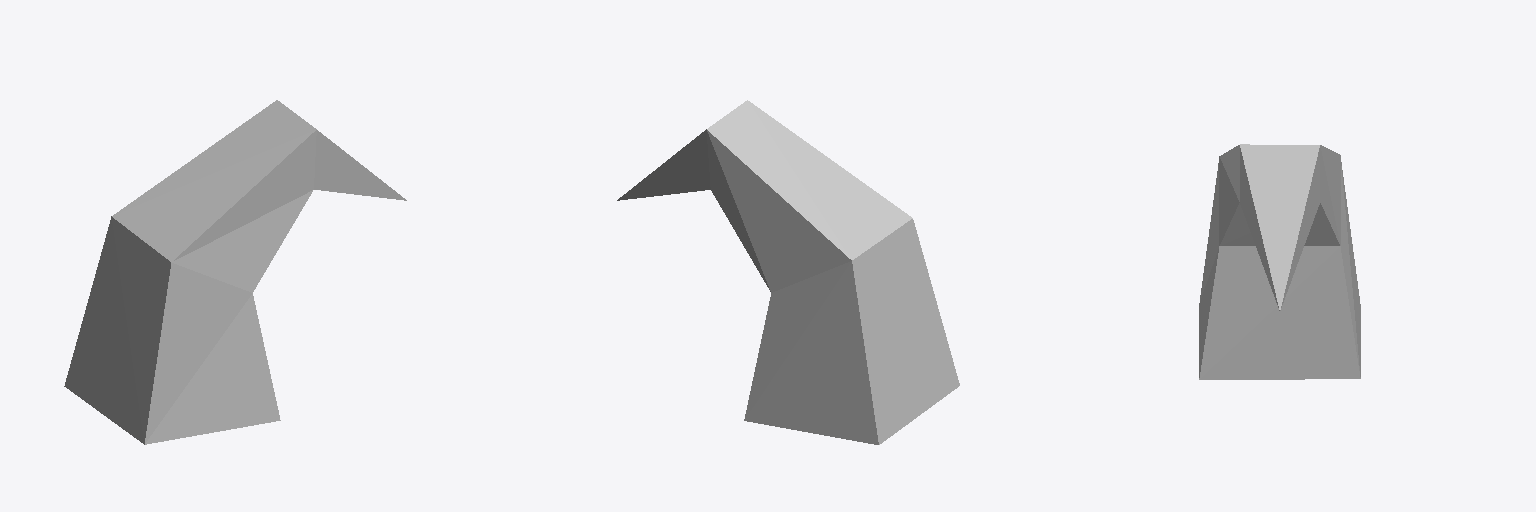
The model's file is skeletal_000030.obj.
3 renders of one model, left to right at view 1: azimuth 30°, elevation 25°; view 2: azimuth 150°, elevation 25°; view 3: azimuth 270°, elevation 25°, orthographic.
Parts seen in each view (by area): view 1: Cube; view 2: Cube; view 3: Cube.
Boxes of the visible parts, box(x1,y1,x2,y2) form: Cube: box(64, 100, 406, 444); Cube: box(617, 100, 959, 444); Cube: box(1199, 144, 1360, 379).
Size of the model in its own units: 4.34 by 3.59 by 2.